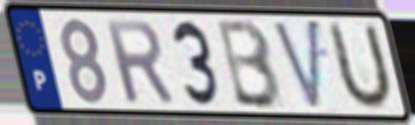3: (170, 17, 220, 109)
8: (57, 14, 110, 106)
B: (215, 16, 284, 112)
R: (101, 17, 178, 106)
U: (326, 19, 395, 114)
V: (269, 16, 322, 116)
